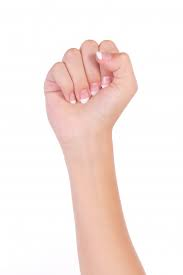fist: (40, 37, 140, 141)
